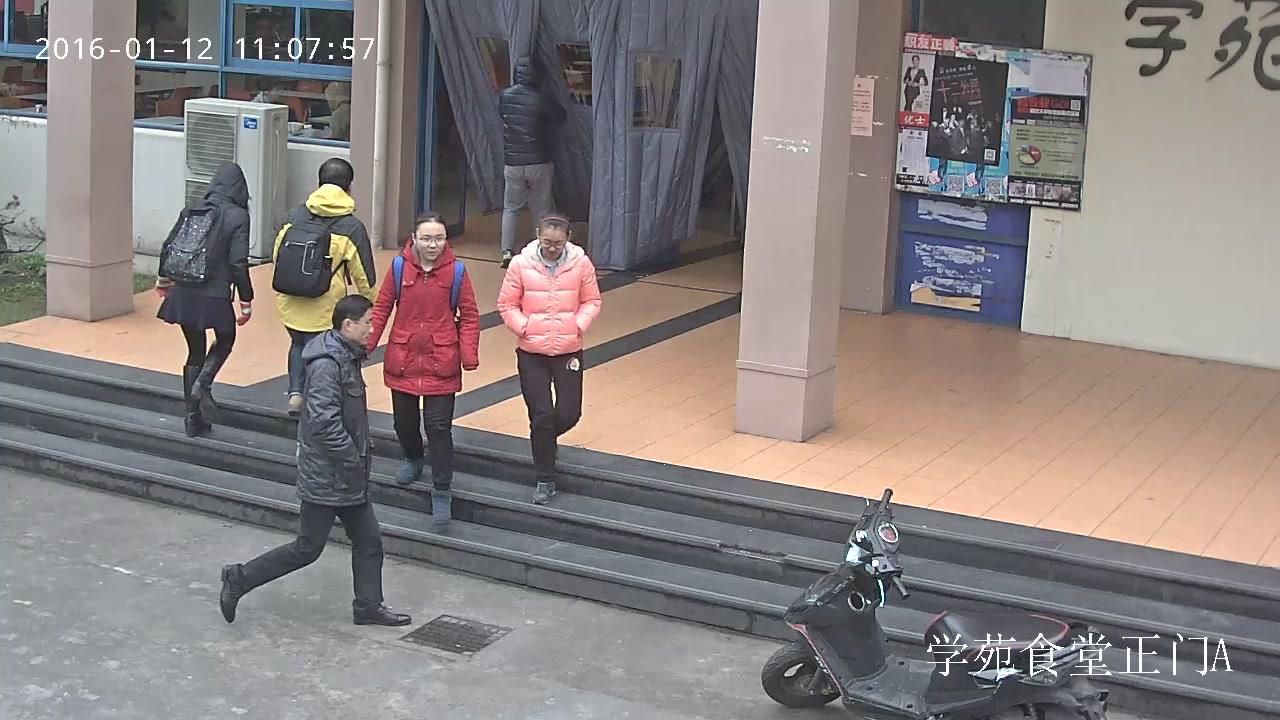person: (219, 293, 412, 626), (363, 209, 480, 524), (496, 210, 602, 505), (272, 157, 376, 417), (155, 160, 253, 435), (498, 53, 567, 268), (317, 78, 351, 142), (902, 54, 928, 111)
